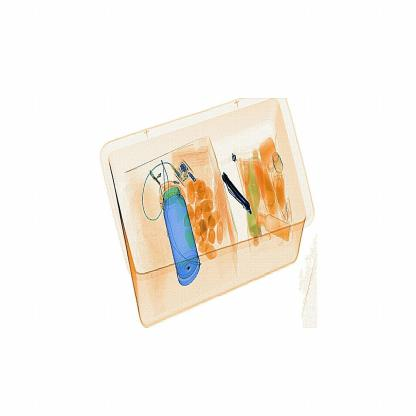knife: (222, 173, 251, 213)
